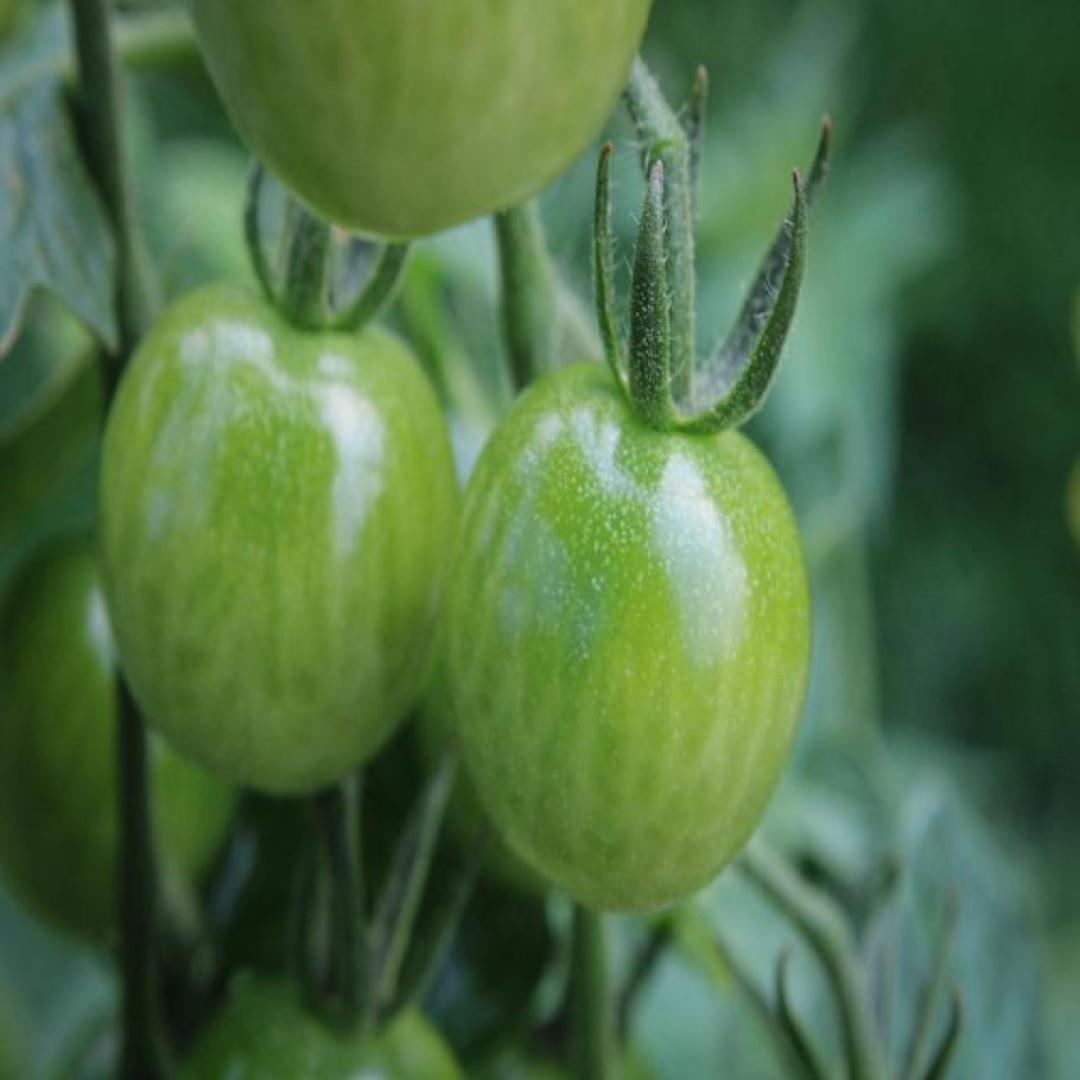mentah: (440, 361, 810, 910), (94, 280, 465, 797)
